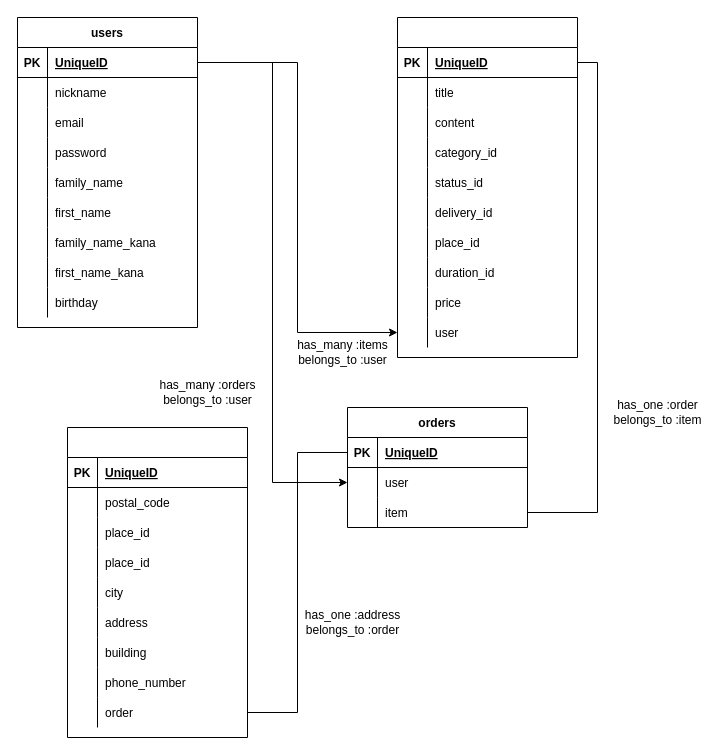
Image size: 725x755. Some labels were removed from this diagram. Each missing label, with the box of its shape:
addresses: (66, 426, 248, 738)
items: (396, 16, 578, 358)
